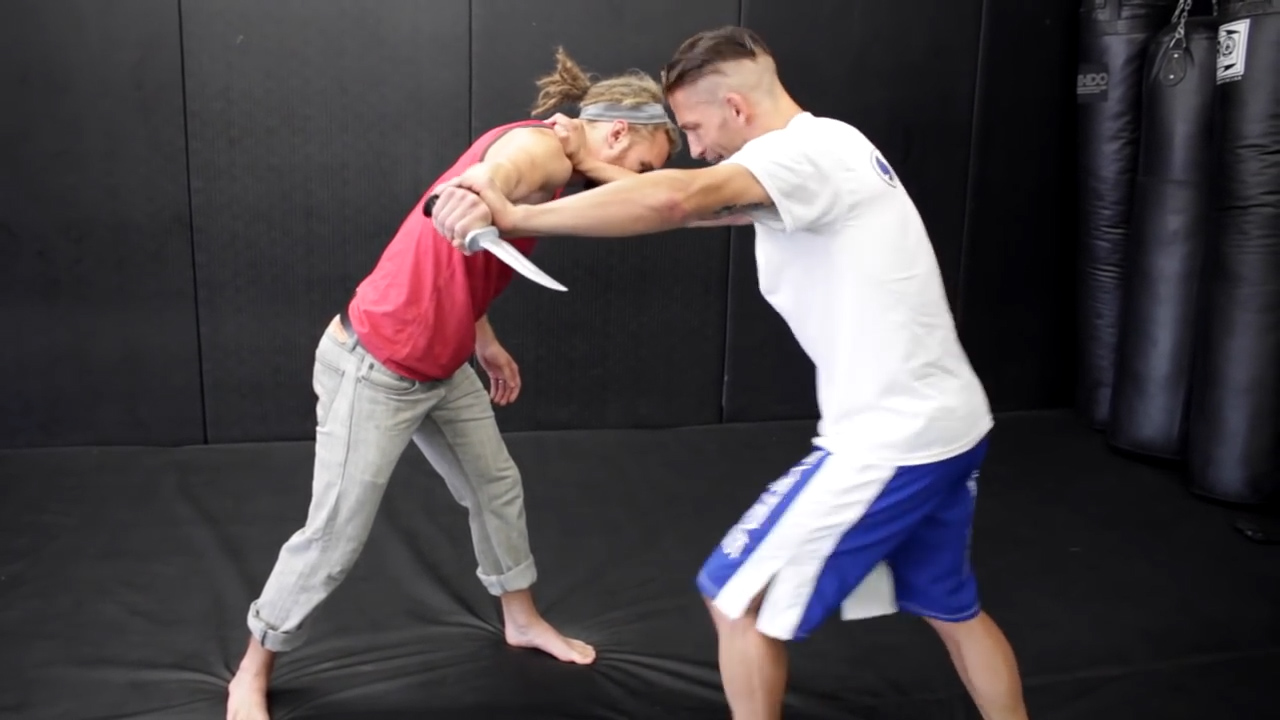knife: (417, 184, 580, 306)
